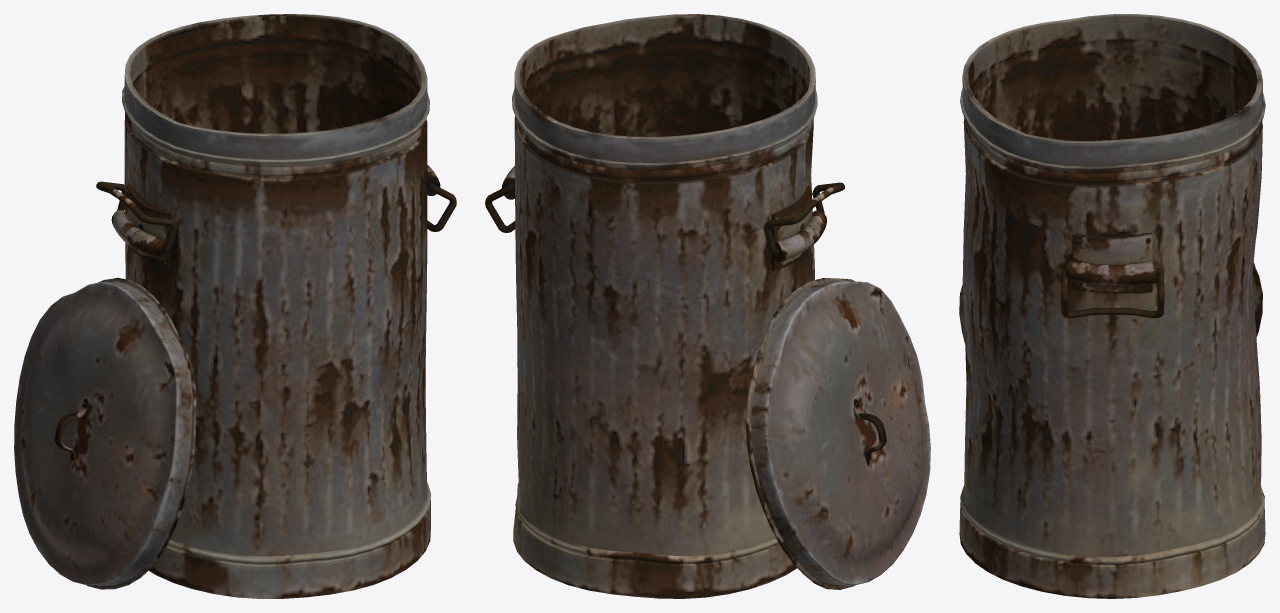
Rendered from detail.fbx.
3 renders of one model, left to right at view 1: azimuth 30°, elevation 25°; view 2: azimuth 150°, elevation 25°; view 3: azimuth 270°, elevation 25°, orthographic.
Parts seen in each view (by area): view 1: metal_trash_can_rust, metal_trash_can_rust_lid, metal_trash_can_rust_handle_left, metal_trash_can_rust_handle_right; view 2: metal_trash_can_rust, metal_trash_can_rust_lid, metal_trash_can_rust_handle_left, metal_trash_can_rust_handle_right; view 3: metal_trash_can_rust, metal_trash_can_rust_handle_right, metal_trash_can_rust_lid.
Part boxes in pixels (x1=…): metal_trash_can_rust: x1=111, y1=14, x2=440, y2=598; metal_trash_can_rust_lid: x1=14, y1=277, x2=196, y2=589; metal_trash_can_rust_handle_left: x1=96, y1=181, x2=177, y2=254; metal_trash_can_rust_handle_right: x1=427, y1=182, x2=456, y2=231; metal_trash_can_rust: x1=501, y1=14, x2=826, y2=598; metal_trash_can_rust_lid: x1=746, y1=278, x2=930, y2=589; metal_trash_can_rust_handle_left: x1=764, y1=182, x2=844, y2=255; metal_trash_can_rust_handle_right: x1=485, y1=183, x2=515, y2=232; metal_trash_can_rust: x1=959, y1=14, x2=1265, y2=598; metal_trash_can_rust_handle_right: x1=1061, y1=267, x2=1164, y2=318; metal_trash_can_rust_lid: x1=959, y1=262, x2=1262, y2=343.
Bounding box in the file's own units: 77.33 × 90.62 × 54.9.
